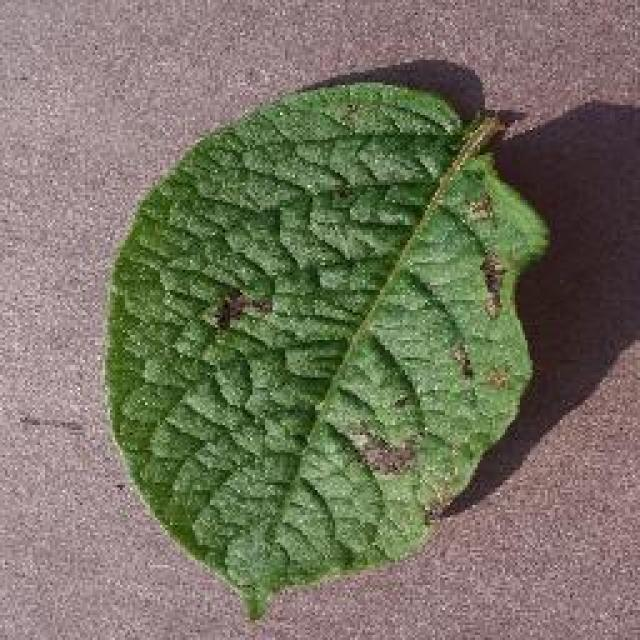Potato___Late_blight: (101, 79, 556, 631)
